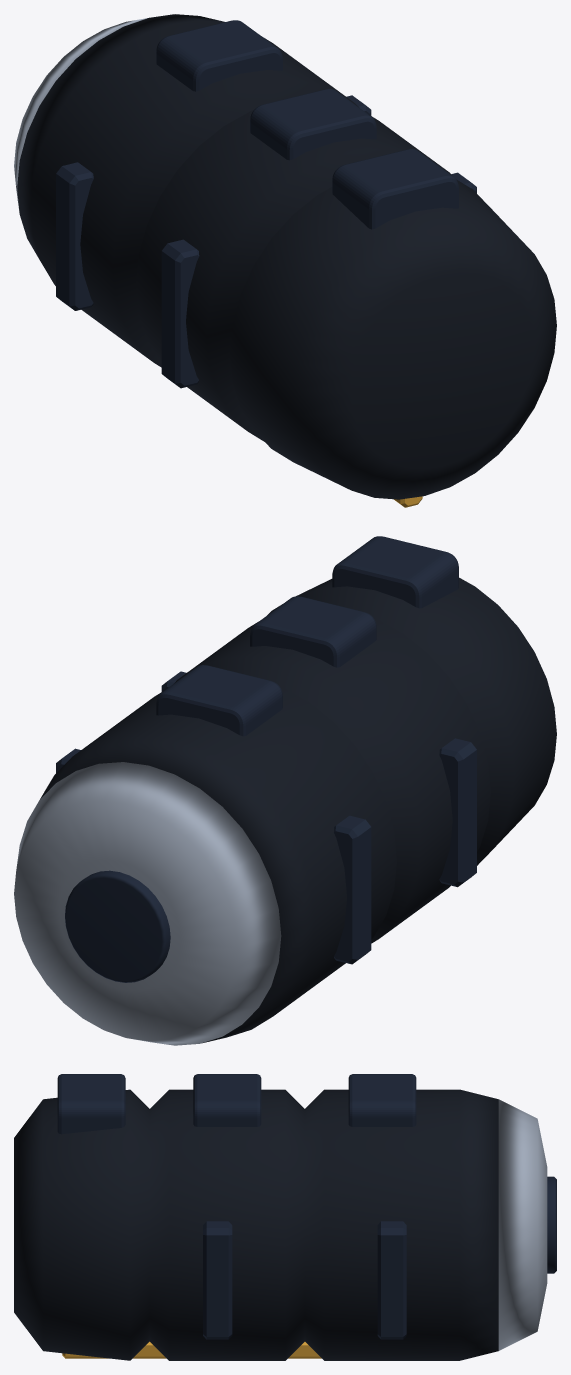
File: attach_compensator.glb
The picture shows the model from 3 angles, top to bottom: view 1: azimuth 30°, elevation 25°; view 2: azimuth 150°, elevation 25°; view 3: azimuth 270°, elevation 25°; orthographic projection. The views are drawn at different scales.
Visible parts, largest first — view 1: attach_compensator_body, attach_compensator_port0.008, attach_compensator_port0.038, attach_compensator_port0.022, attach_compensator_slot-1_0.021, attach_compensator_slot-1_0.039, attach_compensator_crown; view 2: attach_compensator_body, attach_compensator_crown, attach_compensator_bore, attach_compensator_port0.008, attach_compensator_port0.022, attach_compensator_port0.038, attach_compensator_slot-1_0.039, attach_compensator_slot-1_0.021; view 3: attach_compensator_body, attach_compensator_crown, attach_compensator_port0.008, attach_compensator_port0.038, attach_compensator_port0.022, attach_compensator_slot1_0.021, attach_compensator_slot1_0.039, attach_compensator_bore, attach_compensator_index.
Part boxes in pixels (box(x1,y1,x2,y2)): attach_compensator_body: box(17, 14, 556, 499); attach_compensator_port0.008: box(332, 149, 458, 229); attach_compensator_port0.038: box(156, 20, 282, 91); attach_compensator_port0.022: box(250, 89, 376, 160); attach_compensator_slot-1_0.021: box(161, 239, 199, 388); attach_compensator_slot-1_0.039: box(56, 162, 93, 310); attach_compensator_crown: box(14, 18, 147, 210); attach_compensator_body: box(40, 577, 556, 1043); attach_compensator_crown: box(14, 762, 281, 1045); attach_compensator_bore: box(65, 870, 170, 982); attach_compensator_port0.008: box(332, 536, 458, 608); attach_compensator_port0.022: box(250, 596, 376, 667); attach_compensator_port0.038: box(156, 665, 282, 736); attach_compensator_slot-1_0.039: box(334, 815, 371, 964); attach_compensator_slot-1_0.021: box(439, 738, 476, 887); attach_compensator_body: box(14, 1089, 498, 1360); attach_compensator_crown: box(498, 1099, 547, 1350); attach_compensator_port0.008: box(57, 1074, 125, 1134); attach_compensator_port0.038: box(348, 1074, 416, 1126); attach_compensator_port0.022: box(193, 1074, 261, 1126); attach_compensator_slot1_0.021: box(203, 1221, 232, 1339); attach_compensator_slot1_0.039: box(377, 1221, 406, 1339); attach_compensator_bore: box(547, 1176, 556, 1273); attach_compensator_index: box(62, 1341, 321, 1358).
Bounding box in the file's own units: 0.0297 × 0.0305 × 0.056.
